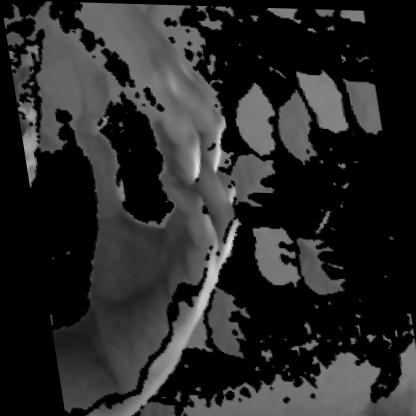heart: (24, 2, 268, 362)
